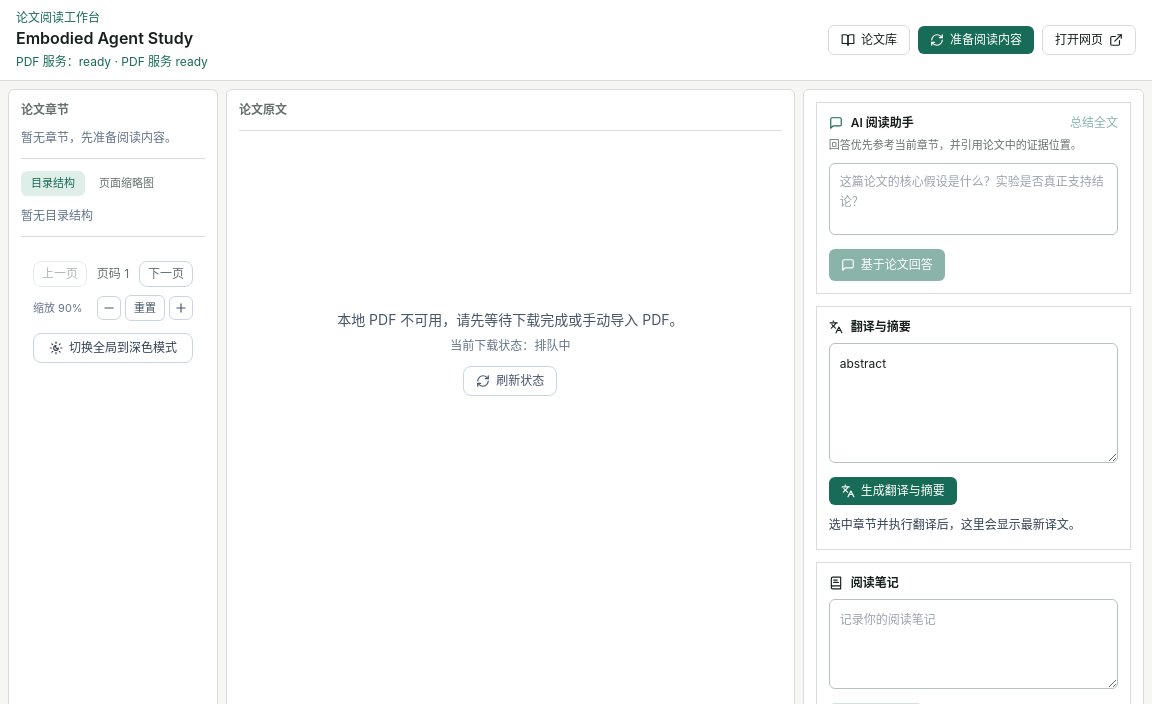
DeepReadPanel › saves deepread note via backend api
The width and height of the screenshot is (1152, 704).
Type "important insight" into the text box with placeholder "记录你的阅读笔记" at (973, 644), box [829,599,1118,689]
(page scrolled)
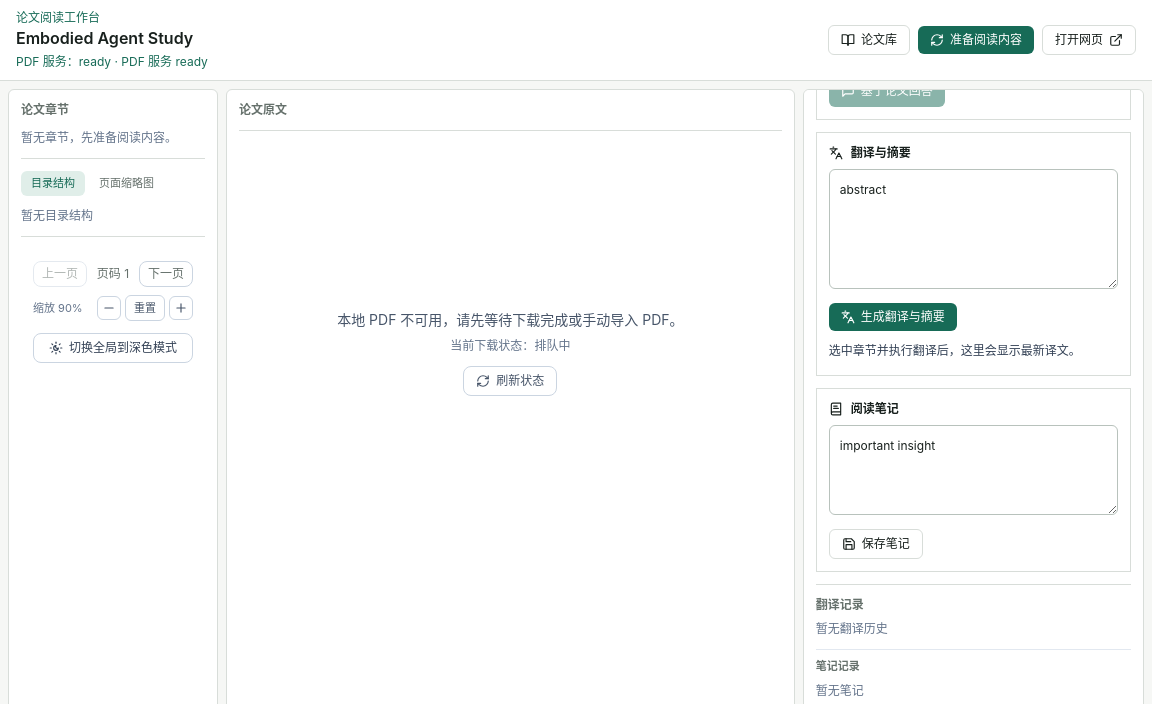
Click the button "保存笔记" at (876, 544), box [829,529,923,559]
(page scrolled)
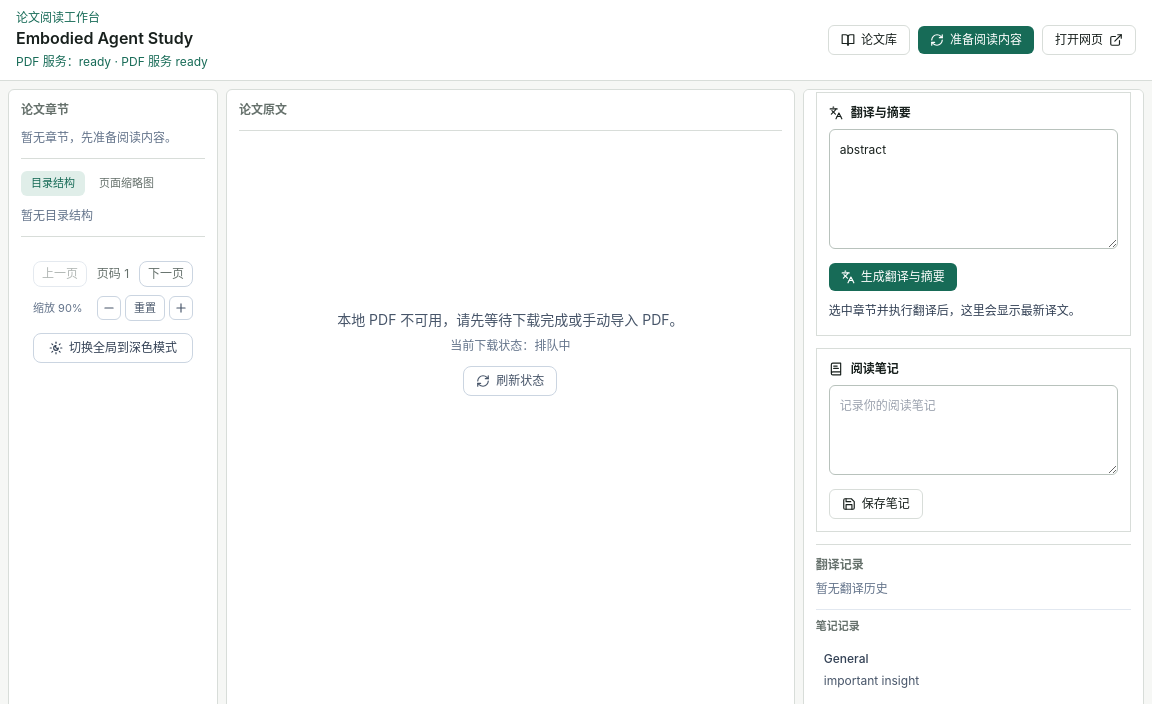
Expected: the text "important insight" is shown, [824,672,919,688]
